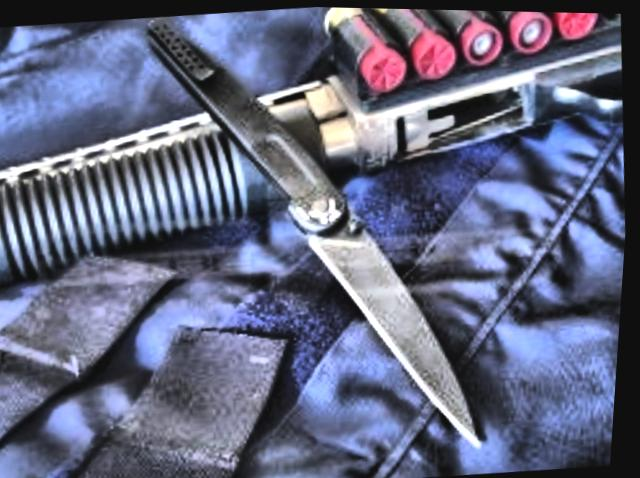knife: (270, 164, 504, 470)
